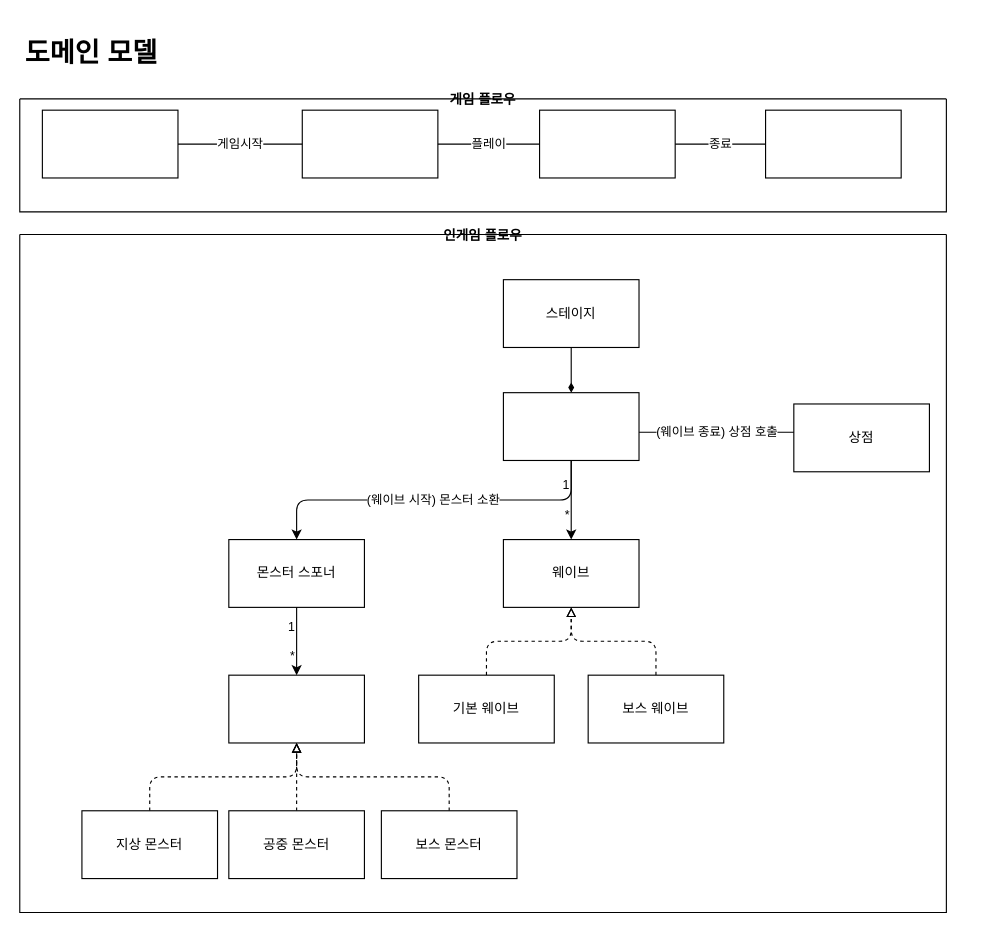
Image size: 1006x932. Some labels were removed from this diagram. Here are the shapes that lost their labels. From the top down, the centre of each, then its label:
At pixel 109 143: "로비".
At pixel 369 143: "캐릭터 선택".
At pixel 606 143: "인게임".
At pixel 832 143: "엔딩".
At pixel 570 426: "웨이브 관리자".
At pixel 296 708: "몬스터".
